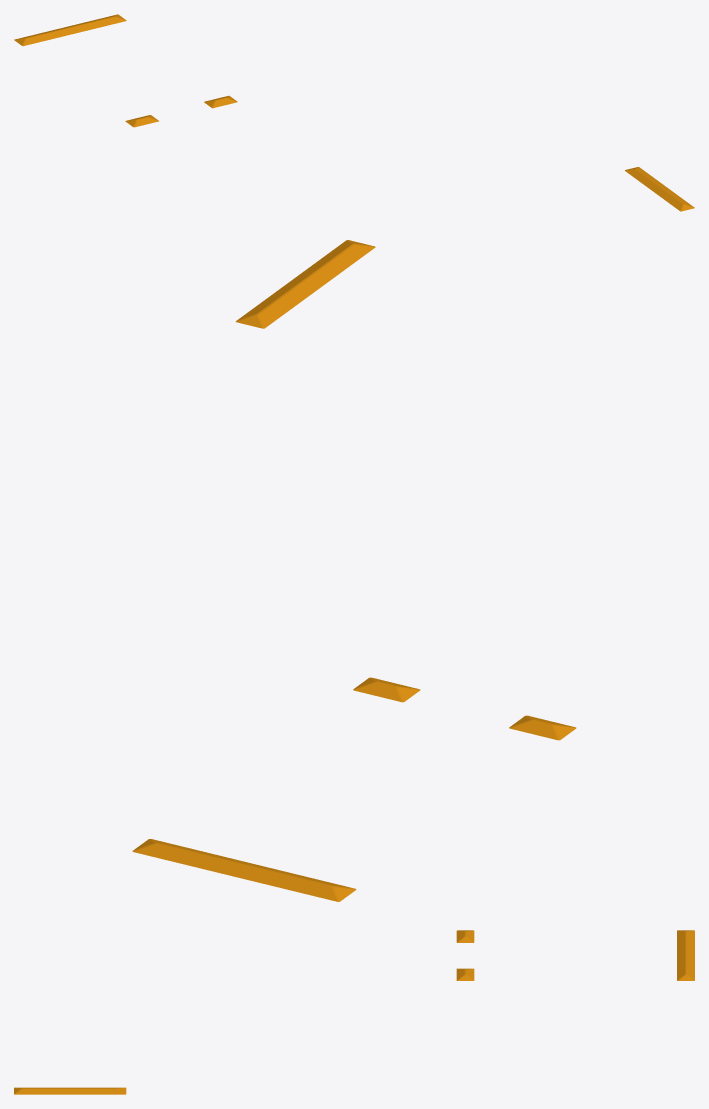
The model's file is Combined_ShadowCollisionPrefab.fbx.
The picture shows the model from 3 angles, top to bottom: view 1: azimuth 30°, elevation 25°; view 2: azimuth 150°, elevation 25°; view 3: azimuth 270°, elevation 25°; orthographic projection. The views are drawn at different scales.
Visible parts, largest first — view 1: Combined_ShadowCollisionPrefab; view 2: Combined_ShadowCollisionPrefab; view 3: Combined_ShadowCollisionPrefab.
Part boxes in pixels (bbox=[...]): Combined_ShadowCollisionPrefab: bbox=[14, 14, 694, 211]; Combined_ShadowCollisionPrefab: bbox=[132, 240, 576, 901]; Combined_ShadowCollisionPrefab: bbox=[14, 930, 694, 1094].
Bounding box in the file's own units: 93.38 × 0.7673 × 164.
